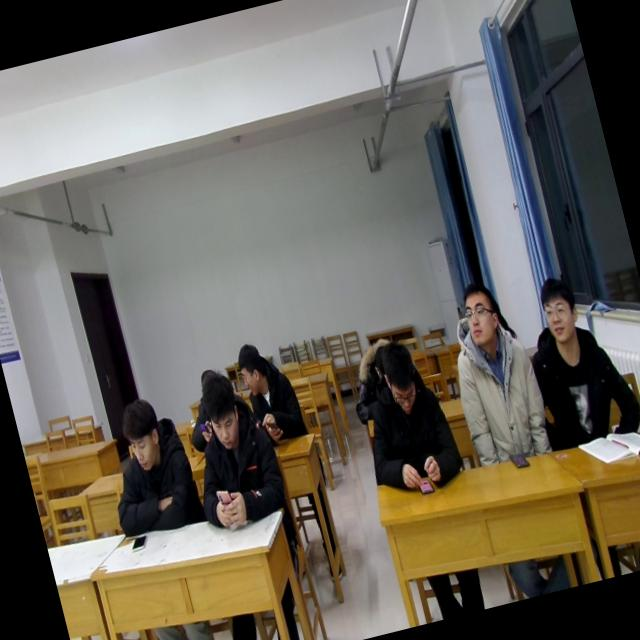bow: (336, 327, 416, 428)
down: (194, 366, 251, 461), (112, 389, 171, 480), (373, 336, 425, 422)
lookup: (528, 265, 585, 349), (452, 276, 509, 358)
sit: (433, 269, 558, 472), (509, 262, 640, 453), (170, 358, 292, 532), (344, 333, 465, 501), (88, 386, 206, 544), (232, 332, 310, 448)
